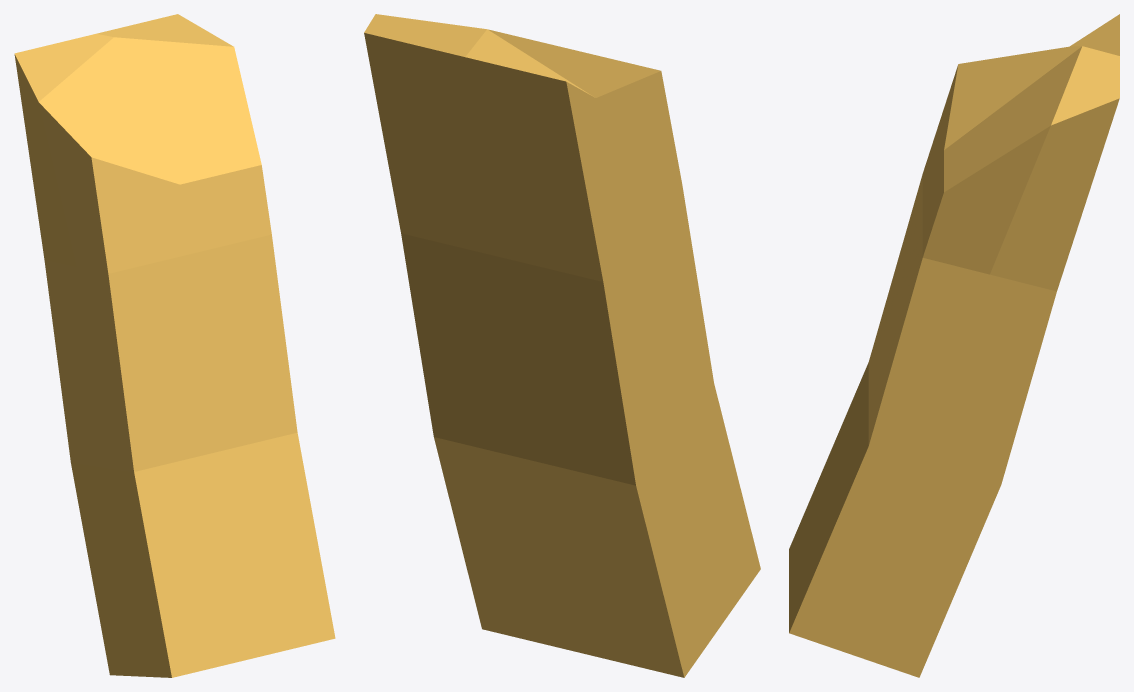
Rendered from Boat skeleton broken column10.fbx.
3 views of the same model, side by side, from view 1: azimuth 30°, elevation 25°; view 2: azimuth 150°, elevation 25°; view 3: azimuth 270°, elevation 25° (orthographic). The views are drawn at different scales.
Parts seen in each view (by area): view 1: Broken columns.009; view 2: Broken columns.009; view 3: Broken columns.009.
Part boxes in pixels (<box>): Broken columns.009: <box>14,14,335,677</box>; Broken columns.009: <box>364,14,760,677</box>; Broken columns.009: <box>789,14,1119,677</box>.
Bounding box in the file's own units: 4.92 × 14.12 × 7.17.
